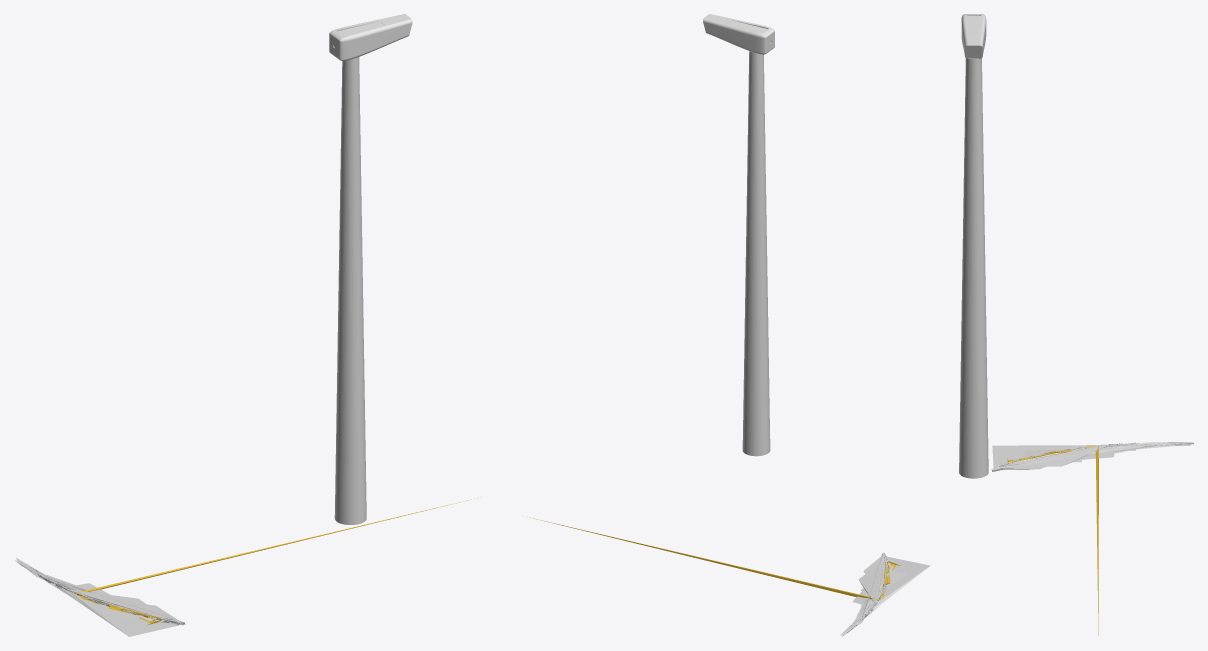
The model's file is monopile_low.dae.
The picture shows the model from 3 angles, left to right: view 1: azimuth 30°, elevation 25°; view 2: azimuth 150°, elevation 25°; view 3: azimuth 270°, elevation 25°; orthographic projection. The views are drawn at different scales.
Parts seen in each view (by area): view 1: turbine_mast0001, cable; view 2: turbine_mast0001, cable; view 3: turbine_mast0001, cable.
Part boxes in pixels (left/top/right/bottom): turbine_mast0001: left=329, top=14, right=412, bottom=524; cable: left=15, top=498, right=477, bottom=636; turbine_mast0001: left=703, top=14, right=774, bottom=456; cable: left=533, top=518, right=930, bottom=636; turbine_mast0001: left=959, top=14, right=988, bottom=478; cable: left=991, top=442, right=1193, bottom=635.
Size of the model in its own units: 66.45 by 34.23 by 84.18.
